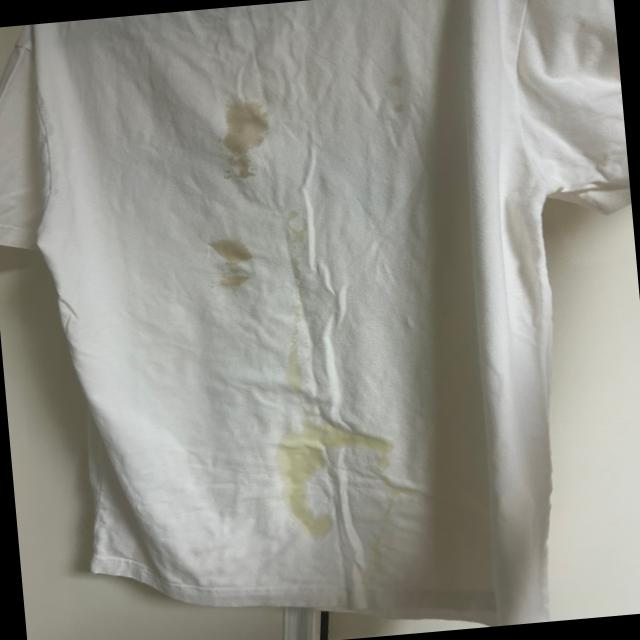stain: (269, 408, 392, 544), (202, 86, 288, 182), (266, 333, 320, 411), (265, 200, 319, 269), (203, 228, 262, 291), (369, 64, 413, 120), (371, 474, 428, 502)
